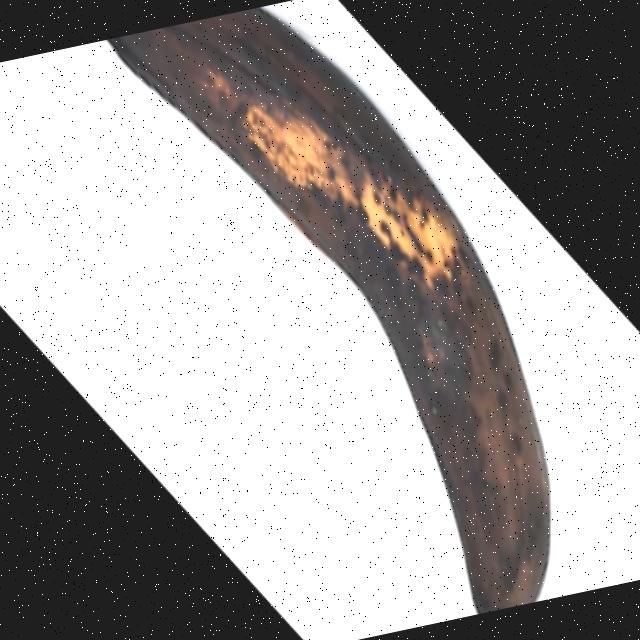Rotten: (104, 0, 574, 640)
